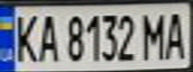1: (81, 10, 103, 62)
2: (115, 10, 139, 62)
3: (100, 10, 121, 62)
8: (63, 10, 84, 63)
A: (160, 8, 193, 61), (33, 10, 60, 63)
K: (9, 10, 42, 64)
M: (139, 9, 169, 61)
